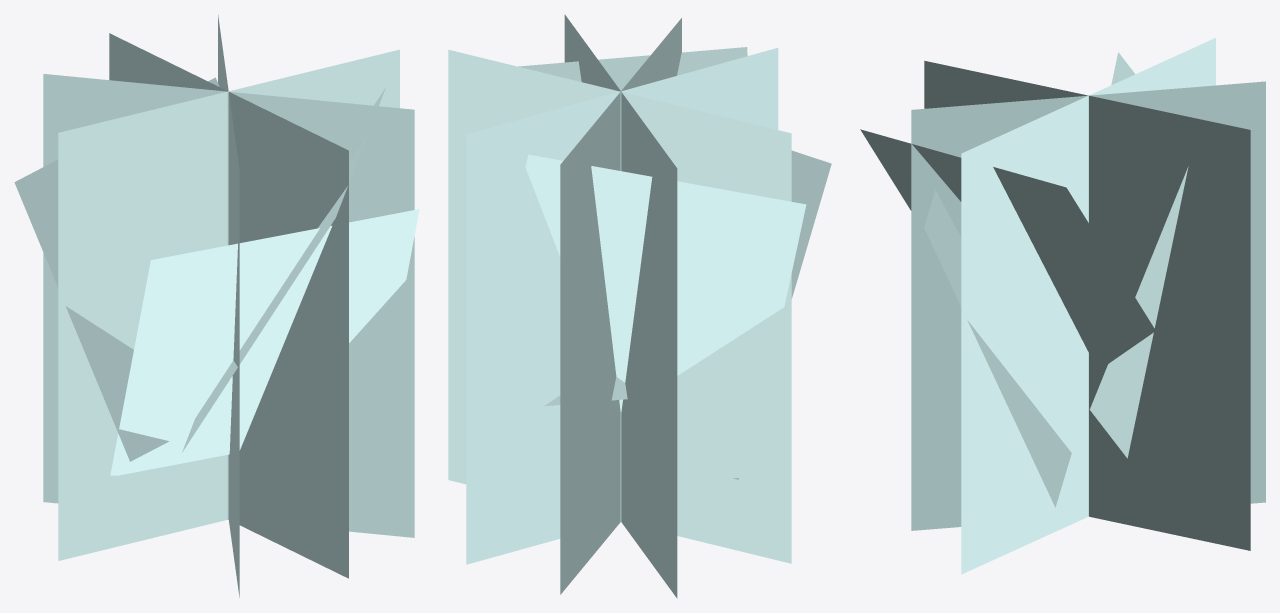
Rendered from cotf_bush.FBX.
3 renders of one model, left to right at view 1: azimuth 30°, elevation 25°; view 2: azimuth 150°, elevation 25°; view 3: azimuth 270°, elevation 25°, orthographic. The views are drawn at different scales.
Visible parts, largest first — view 1: cotf_bush; view 2: cotf_bush; view 3: cotf_bush.
Boxes of the visible parts, x1,y1,x2,y2 form: cotf_bush: [14, 15, 419, 597]; cotf_bush: [448, 14, 831, 598]; cotf_bush: [860, 38, 1265, 574].
Bounding box in the file's own units: 5.59 × 6.17 × 5.39.
